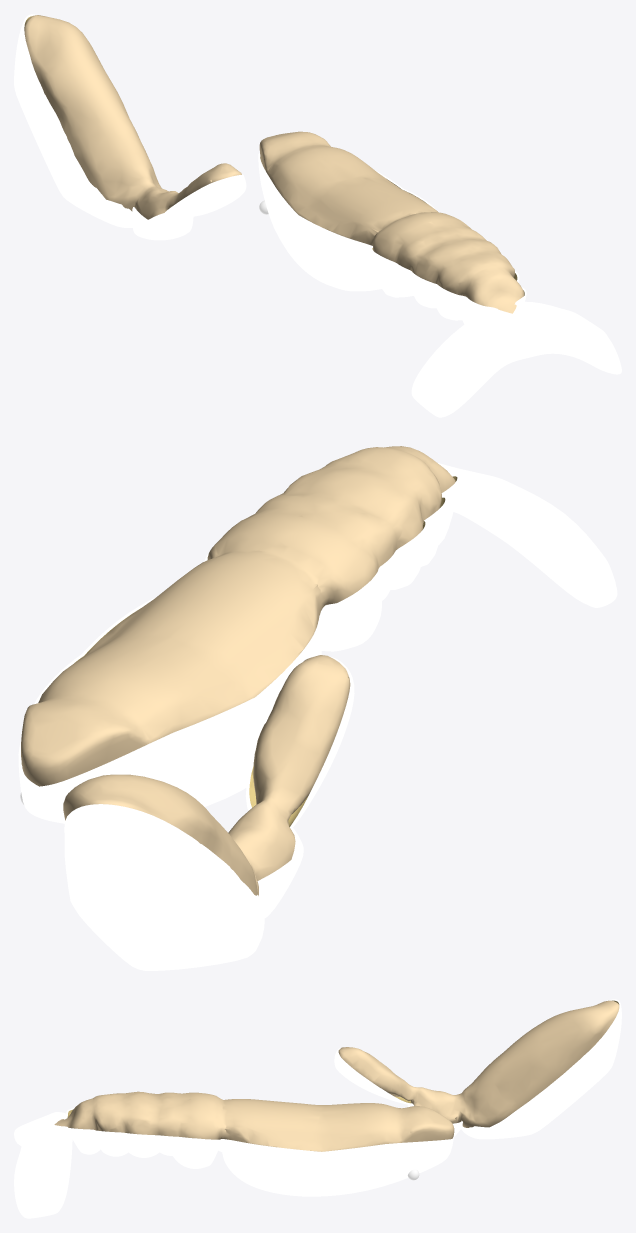
File: lobster_crackable.glb
3 renders of one model, top to bottom at view 1: azimuth 30°, elevation 25°; view 2: azimuth 150°, elevation 25°; view 3: azimuth 270°, elevation 25°, orthographic. The views are drawn at different scales.
Visible parts, largest first — view 1: lobster_cracked, lobster_meat, claw_meat, claw_cracked; view 2: lobster_meat, lobster_cracked, claw_cracked, claw_meat; view 3: lobster_cracked, lobster_meat, claw_meat, claw_cracked.
Boxes of the visible parts, <box> form: lobster_cracked: <box>258,152,621,417</box>; lobster_meat: <box>259,131,523,313</box>; claw_meat: <box>24,15,241,219</box>; claw_cracked: <box>14,14,246,240</box>; lobster_meat: <box>21,446,455,786</box>; lobster_cracked: <box>18,463,617,823</box>; claw_cracked: <box>64,657,354,970</box>; claw_meat: <box>63,655,350,895</box>; lobster_cracked: <box>14,1108,453,1218</box>; lobster_meat: <box>54,1091,454,1151</box>; claw_meat: <box>338,1000,619,1127</box>; claw_cracked: <box>334,999,621,1139</box>.
Size of the model in its own units: 1.64 by 0.8858 by 3.87.
